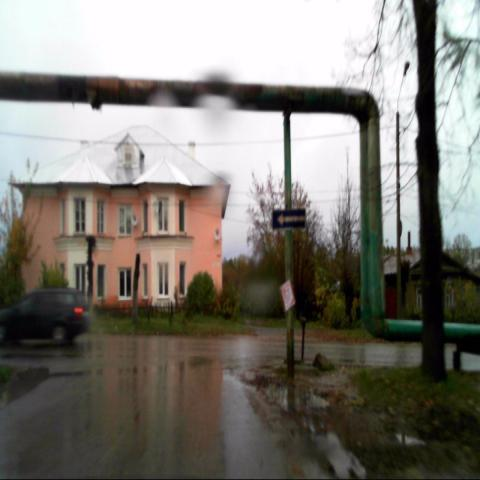5_7_2: (272, 209, 306, 230)
